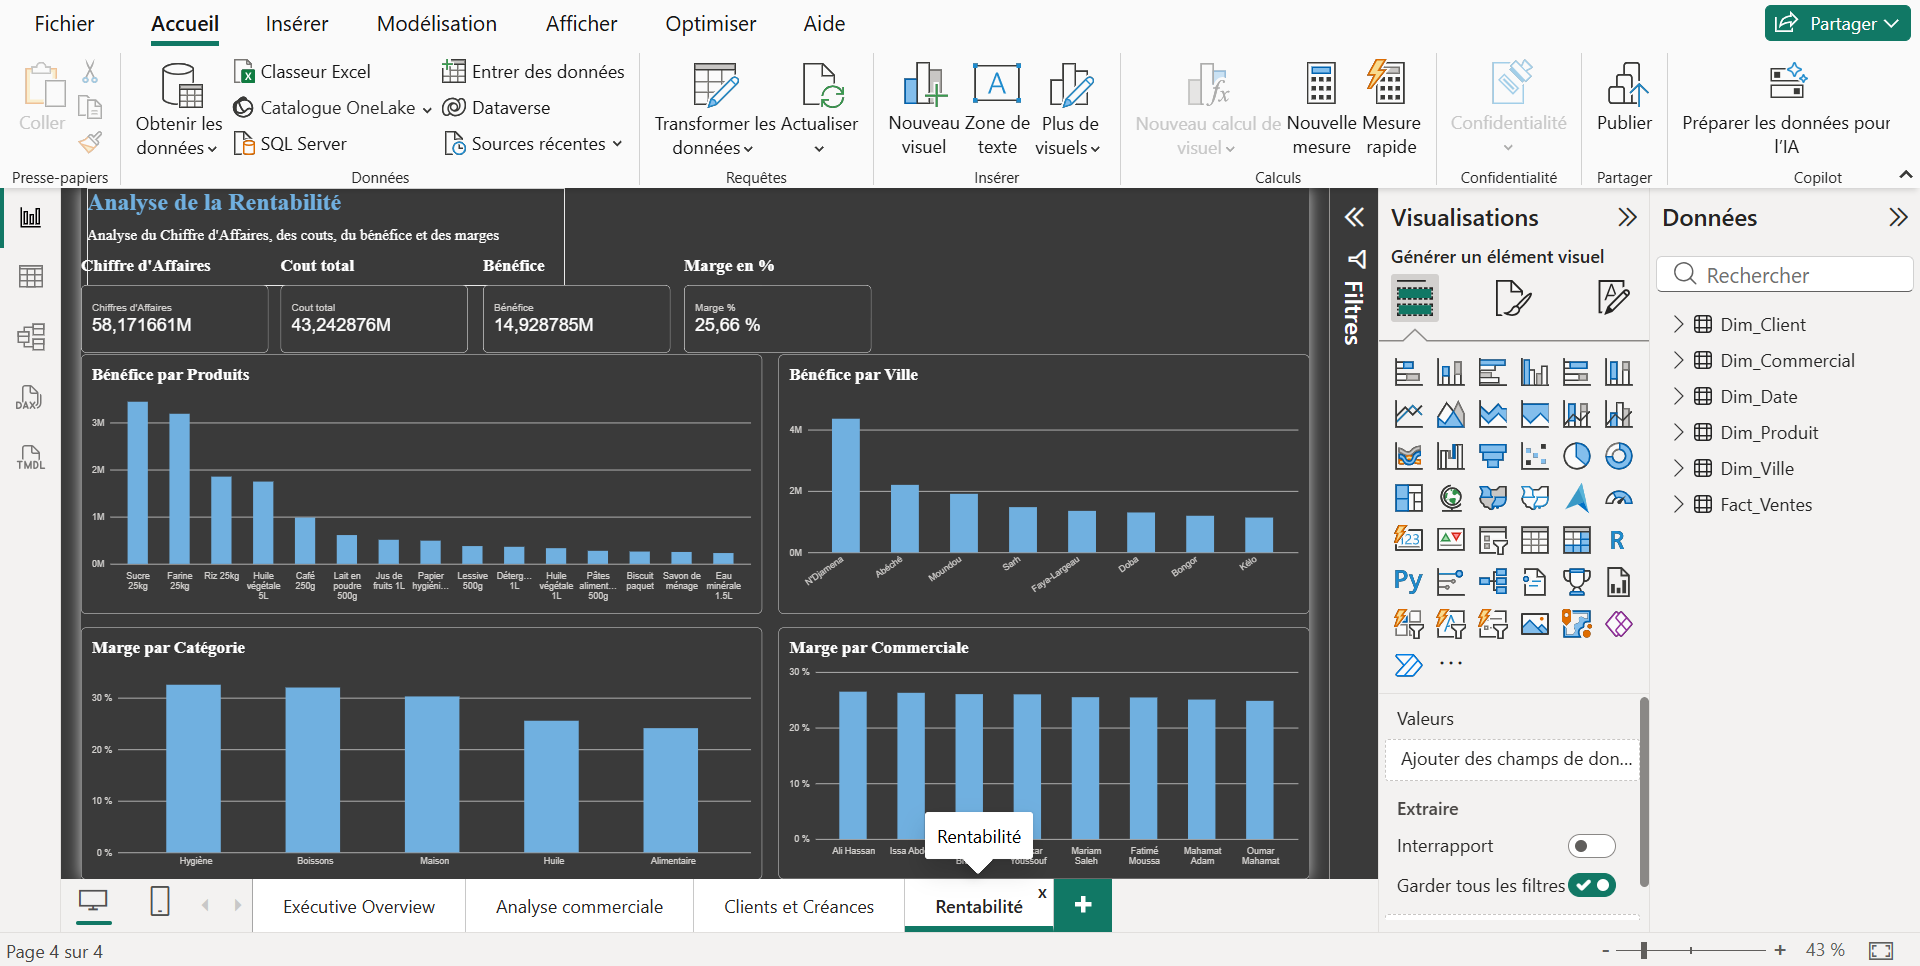

What the dashboard file says about the page in this screenshot:
{"tool":"powerbi","page":{"name":"Rentabilité","canvas":[1920,1080],"ordinal":3},"visuals":[{"type":"textbox","box":[9.4,0,747.9,152.4],"z":0},{"type":"cardVisual","title":"Chiffre d''Affaires","fields":{"Data":["Fact_Ventes.Chiffres d'Affaires"]},"box":[0,105.5,293.1,152.4],"z":1000},{"type":"cardVisual","title":"Cout total","fields":{"Data":["Fact_Ventes.Cout total"]},"box":[311.8,105.5,293.1,152.4],"z":2000},{"type":"cardVisual","title":"Bénéfice","fields":{"Data":["Fact_Ventes.Bénéfice"]},"box":[628.3,105.5,293.1,152.4],"z":3000},{"type":"cardVisual","title":"Marge en %","fields":{"Data":["Fact_Ventes.Marge %"]},"box":[942.5,105.5,293.1,152.4],"z":4000},{"type":"clusteredColumnChart","title":"Bénéfice par Produits","fields":{"Category":["Dim_Produit.Produit"],"Y":["Fact_Ventes.Bénéfice"]},"box":[0,260.2,1064.4,405.6],"z":5000},{"type":"clusteredColumnChart","title":"Marge par Catégorie","fields":{"Category":["Dim_Produit.Categorie"],"Y":["Fact_Ventes.Marge %"]},"box":[0,686.9,1064.4,393.9],"z":6000},{"type":"clusteredColumnChart","title":"Bénéfice par Ville","fields":{"Category":["Dim_Ville.Ville"],"Y":["Fact_Ventes.Bénéfice"]},"box":[1090.2,260.2,829.9,405.6],"z":7000},{"type":"clusteredColumnChart","title":"Marge par Commerciale","fields":{"Category":["Dim_Commercial.Commercial"],"Y":["Fact_Ventes.Marge %"]},"box":[1090,687,830,393],"z":8000}]}

Visuals, with their boxes on the page's 1920x1080 design canvas (x1, y1, x2, y2). These are canvas units, not pixel positions in the 1920x966 screenshot, which may show the page scaled, cropped or inside an application window:
textbox: (9, 0, 757, 152)
"Chiffre d''Affaires" cardVisual: (0, 106, 293, 258)
"Cout total" cardVisual: (312, 106, 605, 258)
"Bénéfice" cardVisual: (628, 106, 921, 258)
"Marge en %" cardVisual: (942, 106, 1236, 258)
"Bénéfice par Produits" clusteredColumnChart: (0, 260, 1064, 666)
"Marge par Catégorie" clusteredColumnChart: (0, 687, 1064, 1081)
"Bénéfice par Ville" clusteredColumnChart: (1090, 260, 1920, 666)
"Marge par Commerciale" clusteredColumnChart: (1090, 687, 1920, 1080)
